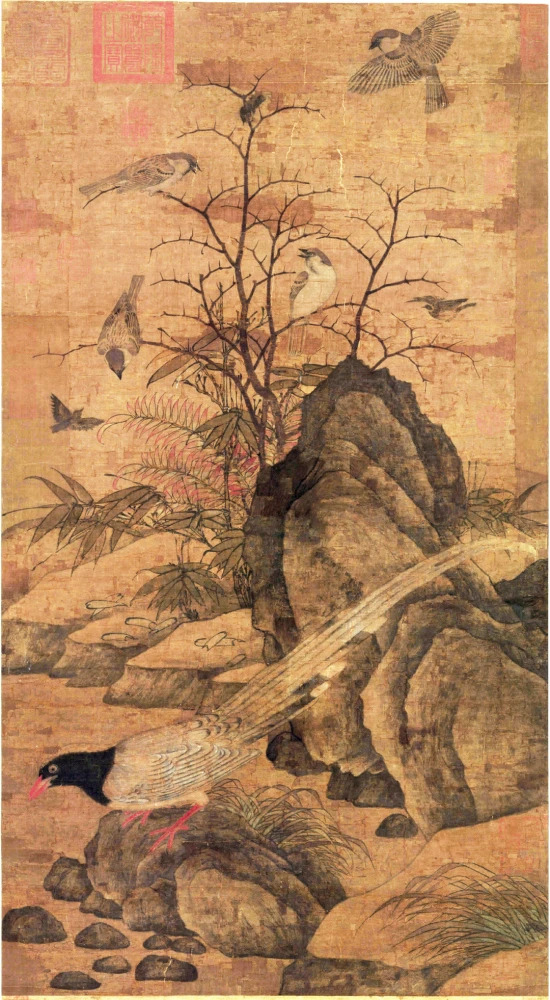bird: (17, 674, 328, 834), (349, 27, 467, 118), (70, 154, 212, 200), (27, 387, 112, 448), (103, 267, 145, 389), (278, 249, 343, 327), (407, 288, 477, 333)
hill: (249, 355, 549, 818)
tree: (154, 69, 305, 621)
